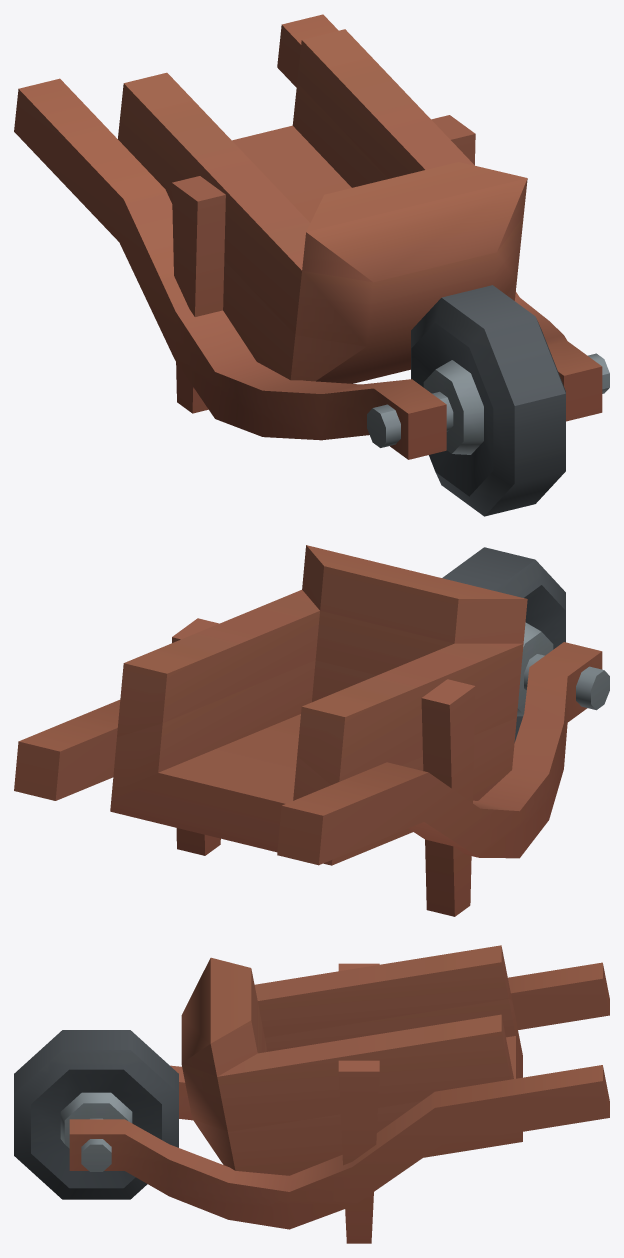
The model's file is kaykit-medieval-hexagon-pack-wheelbarrow.glb.
3 renders of one model, top to bottom at view 1: azimuth 30°, elevation 25°; view 2: azimuth 150°, elevation 25°; view 3: azimuth 270°, elevation 25°, orthographic. The views are drawn at different scales.
Visible parts, largest first — view 1: wheelbarrow; view 2: wheelbarrow; view 3: wheelbarrow.
Boxes of the visible parts, bbox=[...] form: wheelbarrow: bbox=[14, 14, 609, 516]; wheelbarrow: bbox=[14, 545, 609, 916]; wheelbarrow: bbox=[14, 945, 609, 1243].
Bounding box in the file's own units: 0.238 × 0.1884 × 0.5057.
1 material, 1 textured.
